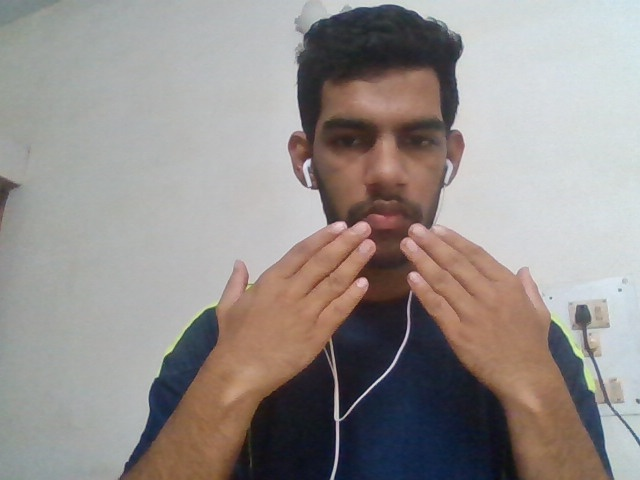thanks: (176, 215, 594, 375)
